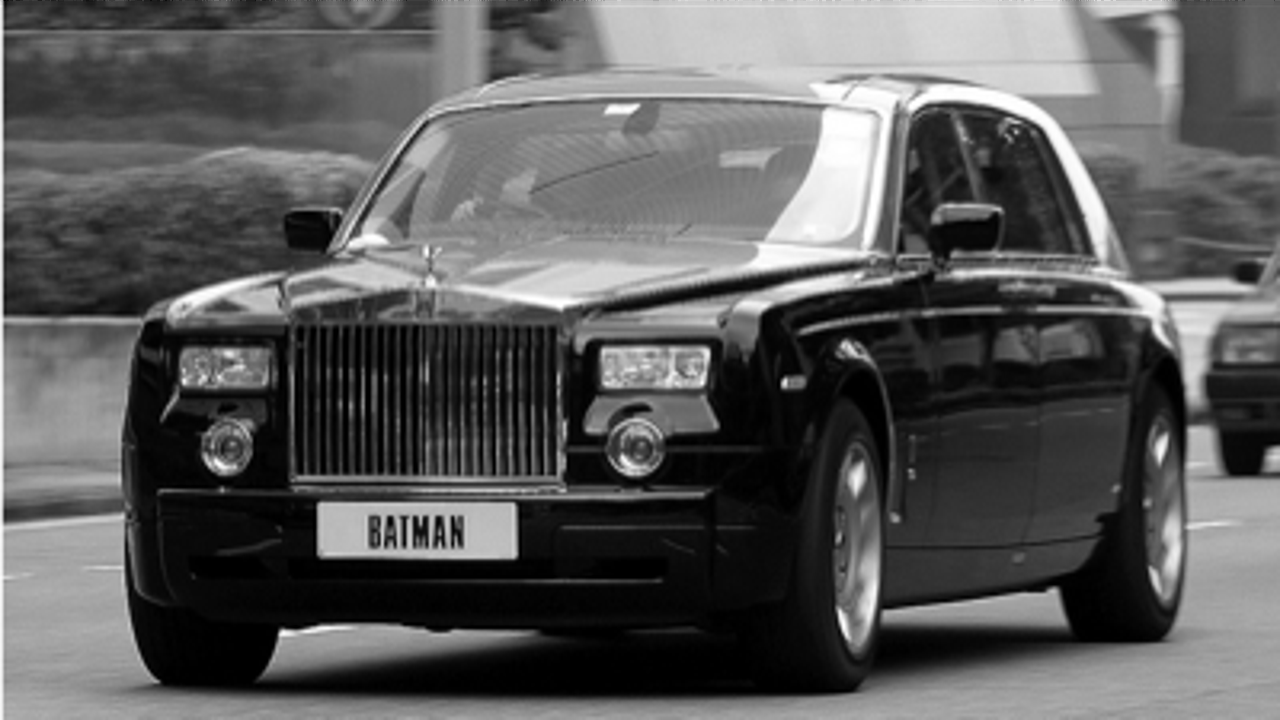license: (304, 493, 528, 571)
